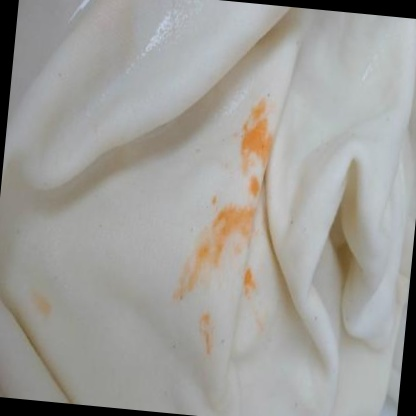kimchi: (171, 185, 264, 307), (223, 92, 294, 193), (189, 305, 229, 360), (236, 266, 267, 334), (28, 282, 64, 326)
